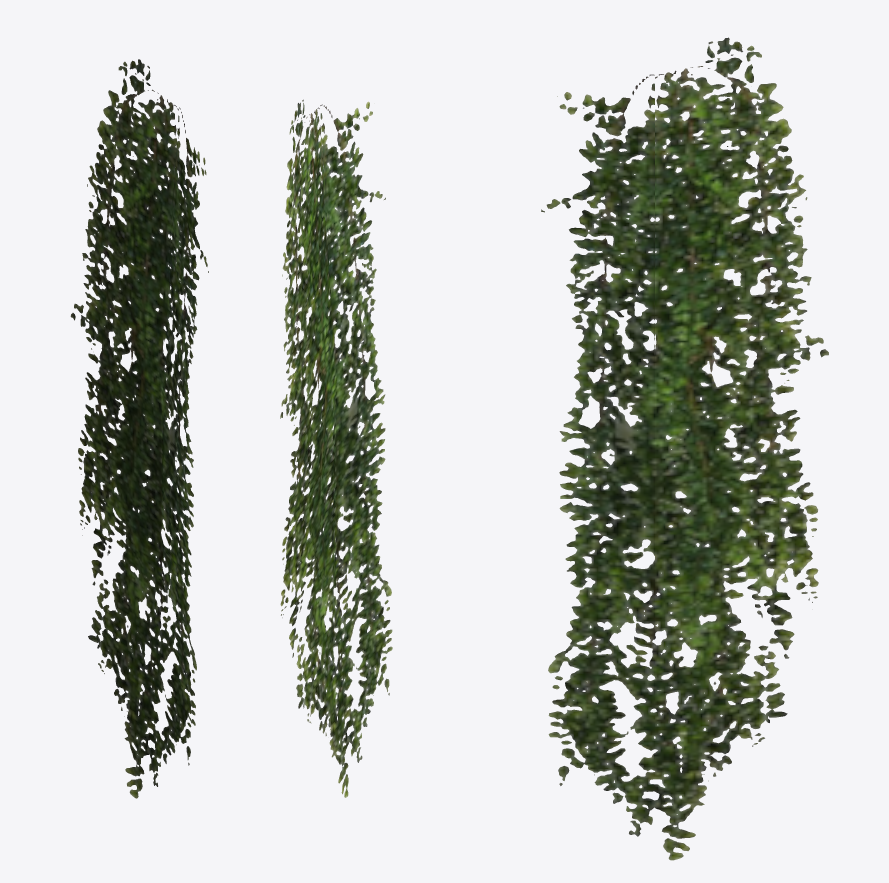
The model's file is popinavka_pramen_2.glb.
3 views of the same model, side by side, from view 1: azimuth 30°, elevation 25°; view 2: azimuth 150°, elevation 25°; view 3: azimuth 270°, elevation 25° (orthographic). The views are drawn at different scales.
Visible parts, largest first — view 1: popinavka_pramen_2; view 2: popinavka_pramen_2; view 3: popinavka_pramen_2.
Boxes of the visible parts, x1,y1,x2,y2 form: popinavka_pramen_2: (70,59,208,798); popinavka_pramen_2: (280,99,392,797); popinavka_pramen_2: (541,37,828,860).
Bounding box in the file's own units: 0.2165 × 2.07 × 0.8961.
1 material, 1 textured.
